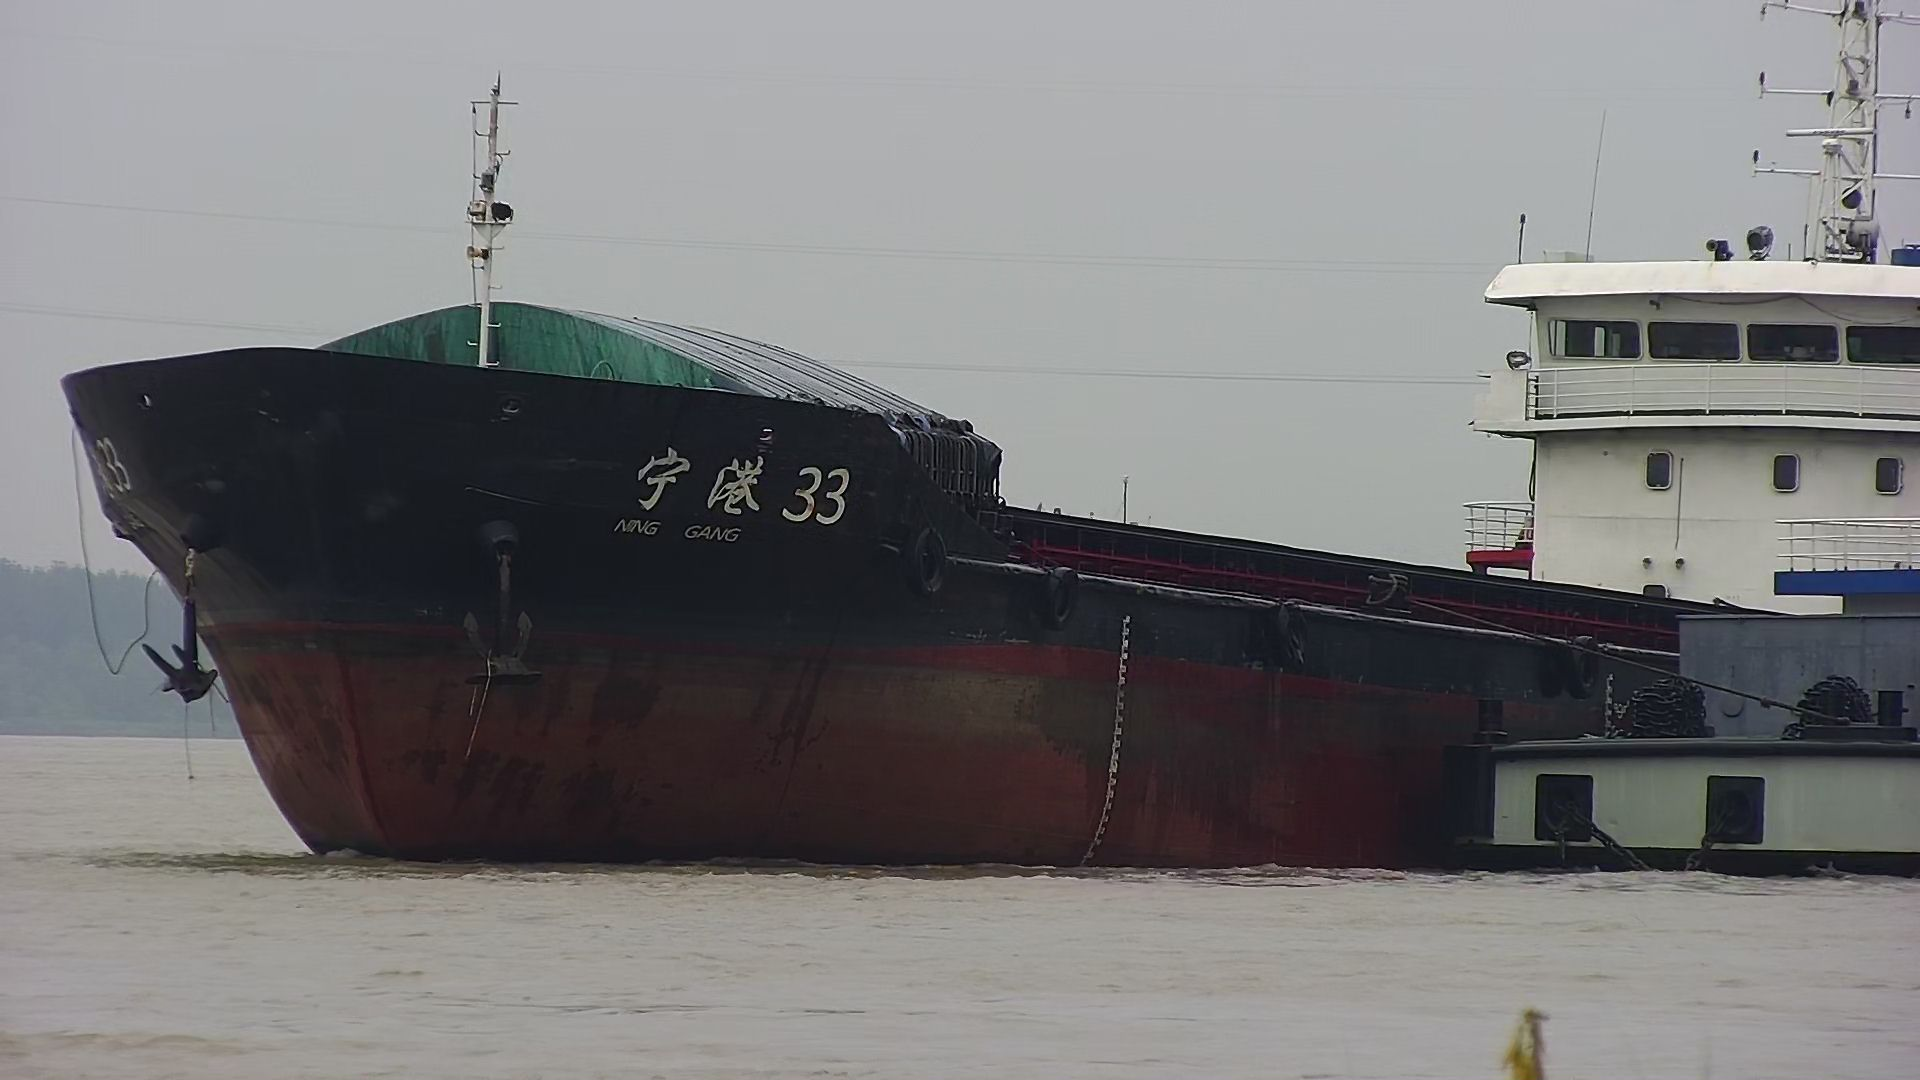rubbish: (1494, 996, 1564, 1080)
ship: (50, 3, 1920, 890)
